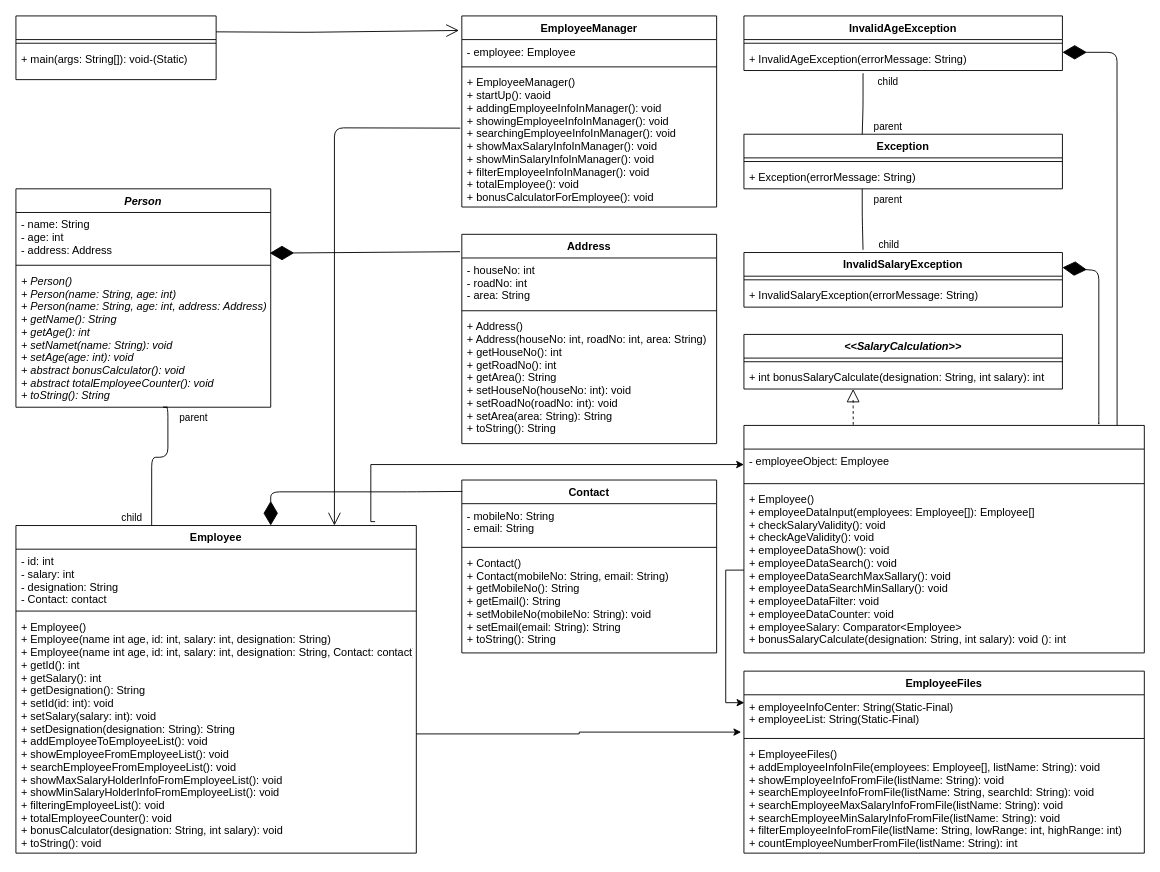
Image size: 1160x872. Some labels were removed from this diagram. The box of each missing label's shape, as (x1, y1, x2, y2) in pixels:
EmployDataHelper: (743, 425, 1144, 653)
EmployeeManagementSystem: (15, 15, 216, 80)
